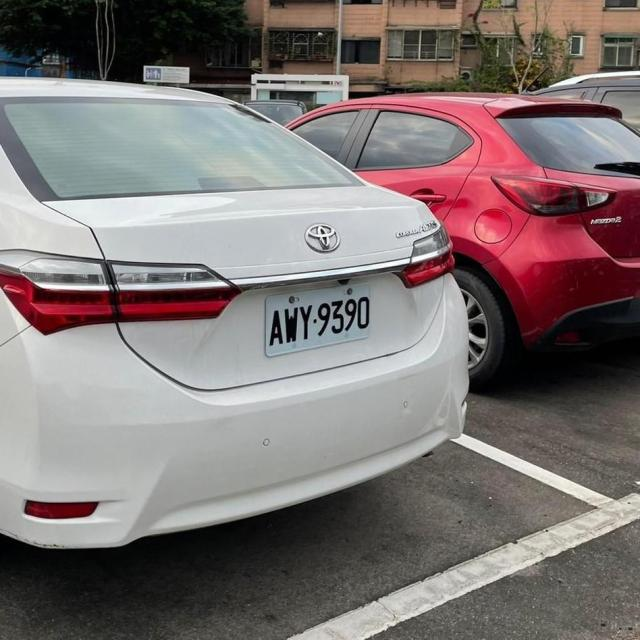W: (258, 274, 374, 364)
